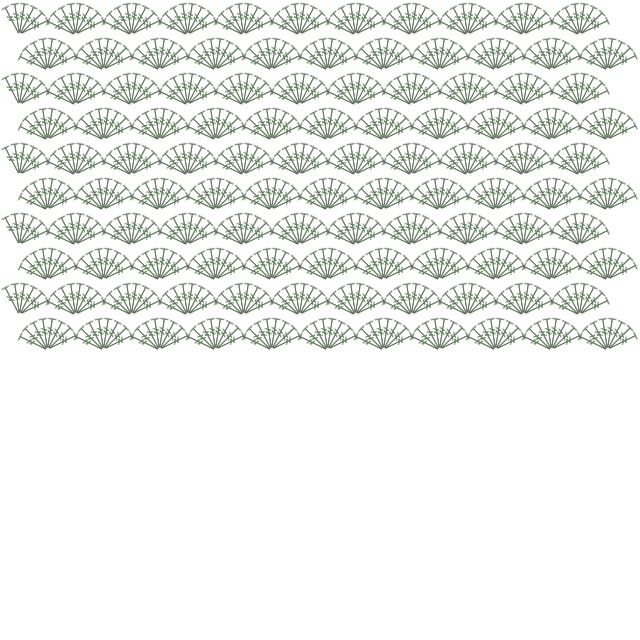fan: (16, 8, 47, 39), (49, 8, 80, 39), (72, 8, 103, 39), (105, 8, 136, 39), (128, 8, 159, 39), (161, 8, 192, 39), (184, 8, 215, 39), (217, 8, 248, 39), (240, 8, 271, 39), (273, 8, 304, 39), (296, 8, 327, 39), (329, 8, 360, 39), (352, 8, 383, 39), (385, 8, 416, 39), (408, 8, 439, 39), (441, 8, 472, 39), (464, 8, 495, 39), (497, 8, 528, 39), (520, 8, 551, 39), (553, 8, 584, 39), (576, 8, 607, 39), (21, 43, 52, 74), (44, 43, 75, 74), (77, 43, 108, 74), (100, 43, 131, 74), (133, 43, 164, 74), (156, 43, 187, 74), (189, 43, 220, 74), (212, 43, 243, 74), (245, 43, 276, 74), (268, 43, 299, 74), (301, 43, 332, 74), (324, 43, 355, 74), (357, 43, 388, 74), (380, 43, 411, 74), (413, 43, 444, 74), (436, 43, 467, 74), (469, 43, 500, 74), (492, 43, 523, 74), (525, 43, 556, 74), (548, 43, 579, 74), (581, 43, 612, 74), (604, 43, 635, 74), (16, 78, 47, 109), (49, 78, 80, 109), (72, 78, 103, 109), (105, 78, 136, 109), (128, 78, 159, 109), (161, 78, 192, 109), (184, 78, 215, 109), (217, 78, 248, 109), (240, 78, 271, 109), (273, 78, 304, 109), (296, 78, 327, 109), (329, 78, 360, 109), (352, 78, 383, 109), (385, 78, 416, 109), (408, 78, 439, 109), (441, 78, 472, 109), (464, 78, 495, 109), (497, 78, 528, 109), (520, 78, 551, 109), (553, 78, 584, 109), (576, 78, 607, 109), (21, 113, 52, 144), (44, 113, 75, 144), (77, 113, 108, 144), (100, 113, 131, 144), (133, 113, 164, 144), (156, 113, 187, 144), (189, 113, 220, 144), (212, 113, 243, 144), (245, 113, 276, 144), (268, 113, 299, 144), (301, 113, 332, 144), (324, 113, 355, 144), (357, 113, 388, 144), (380, 113, 411, 144), (413, 113, 444, 144), (436, 113, 467, 144), (469, 113, 500, 144), (492, 113, 523, 144), (525, 113, 556, 144), (548, 113, 579, 144), (581, 113, 612, 144), (604, 113, 635, 144), (16, 148, 47, 179), (49, 148, 80, 179), (72, 148, 103, 179), (105, 148, 136, 179), (128, 148, 159, 179), (161, 148, 192, 179), (184, 148, 215, 179), (217, 148, 248, 179), (240, 148, 271, 179), (273, 148, 304, 179), (296, 148, 327, 179), (329, 148, 360, 179), (352, 148, 383, 179), (385, 148, 416, 179), (408, 148, 439, 179), (441, 148, 472, 179), (464, 148, 495, 179), (497, 148, 528, 179), (520, 148, 551, 179), (553, 148, 584, 179), (576, 148, 607, 179), (21, 183, 52, 214), (44, 183, 75, 214), (77, 183, 108, 214), (100, 183, 131, 214), (133, 183, 164, 214), (156, 183, 187, 214), (189, 183, 220, 214), (212, 183, 243, 214), (245, 183, 276, 214), (268, 183, 299, 214), (301, 183, 332, 214), (324, 183, 355, 214), (357, 183, 388, 214), (380, 183, 411, 214), (413, 183, 444, 214), (436, 183, 467, 214), (469, 183, 500, 214), (492, 183, 523, 214), (525, 183, 556, 214), (548, 183, 579, 214), (581, 183, 612, 214), (604, 183, 635, 214), (16, 218, 47, 249), (49, 218, 80, 249), (72, 218, 103, 249), (105, 218, 136, 249), (128, 218, 159, 249), (161, 218, 192, 249), (184, 218, 215, 249), (217, 218, 248, 249), (240, 218, 271, 249), (273, 218, 304, 249), (296, 218, 327, 249), (329, 218, 360, 249), (352, 218, 383, 249), (385, 218, 416, 249), (408, 218, 439, 249), (441, 218, 472, 249), (464, 218, 495, 249), (497, 218, 528, 249), (520, 218, 551, 249), (553, 218, 584, 249), (576, 218, 607, 249), (21, 253, 52, 284), (44, 253, 75, 284), (77, 253, 108, 284), (100, 253, 131, 284), (133, 253, 164, 284), (156, 253, 187, 284), (189, 253, 220, 284), (212, 253, 243, 284), (245, 253, 276, 284), (268, 253, 299, 284), (301, 253, 332, 284), (324, 253, 355, 284), (357, 253, 388, 284), (380, 253, 411, 284), (413, 253, 444, 284), (436, 253, 467, 284), (469, 253, 500, 284), (492, 253, 523, 284), (525, 253, 556, 284), (548, 253, 579, 284), (581, 253, 612, 284), (604, 253, 635, 284), (16, 288, 47, 319), (49, 288, 80, 319), (72, 288, 103, 319), (105, 288, 136, 319), (128, 288, 159, 319), (161, 288, 192, 319), (184, 288, 215, 319), (217, 288, 248, 319), (240, 288, 271, 319), (273, 288, 304, 319), (296, 288, 327, 319), (329, 288, 360, 319), (352, 288, 383, 319), (385, 288, 416, 319), (408, 288, 439, 319), (441, 288, 472, 319), (464, 288, 495, 319), (497, 288, 528, 319), (520, 288, 551, 319), (553, 288, 584, 319), (576, 288, 607, 319), (21, 323, 52, 354), (44, 323, 75, 354), (77, 323, 108, 354), (100, 323, 131, 354), (133, 323, 164, 354), (156, 323, 187, 354), (189, 323, 220, 354), (212, 323, 243, 354), (245, 323, 276, 354), (268, 323, 299, 354), (301, 323, 332, 354), (324, 323, 355, 354), (357, 323, 388, 354), (380, 323, 411, 354), (413, 323, 444, 354), (436, 323, 467, 354), (469, 323, 500, 354), (492, 323, 523, 354), (525, 323, 556, 354), (548, 323, 579, 354), (581, 323, 612, 354), (604, 323, 635, 354), (0, 3, 25, 38), (15, 3, 40, 38), (56, 3, 81, 38), (71, 3, 96, 38), (112, 3, 137, 38), (127, 3, 152, 38), (168, 3, 193, 38), (183, 3, 208, 38), (224, 3, 249, 38), (239, 3, 264, 38), (280, 3, 305, 38), (295, 3, 320, 38), (336, 3, 361, 38), (351, 3, 376, 38), (392, 3, 417, 38), (407, 3, 432, 38), (448, 3, 473, 38), (463, 3, 488, 38), (504, 3, 529, 38), (519, 3, 544, 38), (560, 3, 585, 38), (575, 3, 600, 38), (28, 38, 53, 73), (43, 38, 68, 73), (84, 38, 109, 73), (99, 38, 124, 73), (140, 38, 165, 73), (155, 38, 180, 73), (196, 38, 221, 73), (211, 38, 236, 73), (252, 38, 277, 73), (267, 38, 292, 73), (308, 38, 333, 73), (323, 38, 348, 73), (364, 38, 389, 73), (379, 38, 404, 73), (420, 38, 445, 73), (435, 38, 460, 73), (476, 38, 501, 73), (491, 38, 516, 73), (532, 38, 557, 73), (547, 38, 572, 73), (588, 38, 613, 73), (603, 38, 628, 73), (0, 73, 25, 108), (15, 73, 40, 108), (56, 73, 81, 108), (71, 73, 96, 108), (112, 73, 137, 108), (127, 73, 152, 108), (168, 73, 193, 108), (183, 73, 208, 108), (224, 73, 249, 108), (239, 73, 264, 108), (280, 73, 305, 108), (295, 73, 320, 108), (336, 73, 361, 108), (351, 73, 376, 108), (392, 73, 417, 108), (407, 73, 432, 108), (448, 73, 473, 108), (463, 73, 488, 108), (504, 73, 529, 108), (519, 73, 544, 108), (560, 73, 585, 108), (575, 73, 600, 108), (28, 108, 53, 143), (43, 108, 68, 143), (84, 108, 109, 143), (99, 108, 124, 143), (140, 108, 165, 143), (155, 108, 180, 143), (196, 108, 221, 143), (211, 108, 236, 143), (252, 108, 277, 143), (267, 108, 292, 143), (308, 108, 333, 143), (323, 108, 348, 143), (364, 108, 389, 143), (379, 108, 404, 143), (420, 108, 445, 143), (435, 108, 460, 143), (476, 108, 501, 143), (491, 108, 516, 143), (532, 108, 557, 143), (547, 108, 572, 143), (588, 108, 613, 143), (603, 108, 628, 143), (0, 143, 25, 178), (15, 143, 40, 178), (56, 143, 81, 178), (71, 143, 96, 178), (112, 143, 137, 178), (127, 143, 152, 178), (168, 143, 193, 178), (183, 143, 208, 178), (224, 143, 249, 178), (239, 143, 264, 178), (280, 143, 305, 178), (295, 143, 320, 178), (336, 143, 361, 178), (351, 143, 376, 178), (392, 143, 417, 178), (407, 143, 432, 178), (448, 143, 473, 178), (463, 143, 488, 178), (504, 143, 529, 178), (519, 143, 544, 178), (560, 143, 585, 178), (575, 143, 600, 178), (28, 178, 53, 213), (43, 178, 68, 213), (84, 178, 109, 213), (99, 178, 124, 213), (140, 178, 165, 213), (155, 178, 180, 213), (196, 178, 221, 213), (211, 178, 236, 213), (252, 178, 277, 213), (267, 178, 292, 213), (308, 178, 333, 213), (323, 178, 348, 213), (364, 178, 389, 213), (379, 178, 404, 213), (420, 178, 445, 213), (435, 178, 460, 213), (476, 178, 501, 213), (491, 178, 516, 213), (532, 178, 557, 213), (547, 178, 572, 213), (588, 178, 613, 213), (603, 178, 628, 213), (0, 213, 25, 248), (15, 213, 40, 248), (56, 213, 81, 248), (71, 213, 96, 248), (112, 213, 137, 248), (127, 213, 152, 248), (168, 213, 193, 248), (183, 213, 208, 248), (224, 213, 249, 248), (239, 213, 264, 248), (280, 213, 305, 248), (295, 213, 320, 248), (336, 213, 361, 248), (351, 213, 376, 248), (392, 213, 417, 248), (407, 213, 432, 248), (448, 213, 473, 248), (463, 213, 488, 248), (504, 213, 529, 248), (519, 213, 544, 248), (560, 213, 585, 248), (575, 213, 600, 248), (28, 248, 53, 283), (43, 248, 68, 283), (84, 248, 109, 283), (99, 248, 124, 283), (140, 248, 165, 283), (155, 248, 180, 283), (196, 248, 221, 283), (211, 248, 236, 283), (252, 248, 277, 283), (267, 248, 292, 283), (308, 248, 333, 283), (323, 248, 348, 283), (364, 248, 389, 283), (379, 248, 404, 283), (420, 248, 445, 283), (435, 248, 460, 283), (476, 248, 501, 283), (491, 248, 516, 283), (532, 248, 557, 283), (547, 248, 572, 283), (588, 248, 613, 283), (603, 248, 628, 283), (0, 283, 25, 318), (15, 283, 40, 318), (56, 283, 81, 318), (71, 283, 96, 318), (112, 283, 137, 318), (127, 283, 152, 318), (168, 283, 193, 318), (183, 283, 208, 318), (224, 283, 249, 318), (239, 283, 264, 318), (280, 283, 305, 318), (295, 283, 320, 318), (336, 283, 361, 318), (351, 283, 376, 318), (392, 283, 417, 318), (407, 283, 432, 318), (448, 283, 473, 318), (463, 283, 488, 318), (504, 283, 529, 318), (519, 283, 544, 318), (560, 283, 585, 318), (575, 283, 600, 318), (28, 318, 53, 353), (43, 318, 68, 353), (84, 318, 109, 353), (99, 318, 124, 353), (140, 318, 165, 353), (155, 318, 180, 353), (196, 318, 221, 353), (211, 318, 236, 353), (252, 318, 277, 353), (267, 318, 292, 353), (308, 318, 333, 353), (323, 318, 348, 353), (364, 318, 389, 353), (379, 318, 404, 353), (420, 318, 445, 353), (435, 318, 460, 353), (476, 318, 501, 353), (491, 318, 516, 353), (532, 318, 557, 353), (547, 318, 572, 353), (588, 318, 613, 353), (603, 318, 628, 353), (18, 16, 52, 40), (44, 16, 78, 40), (74, 16, 108, 40), (100, 16, 134, 40), (130, 16, 164, 40), (156, 16, 190, 40), (186, 16, 220, 40), (212, 16, 246, 40), (242, 16, 276, 40), (268, 16, 302, 40), (298, 16, 332, 40), (324, 16, 358, 40), (354, 16, 388, 40), (380, 16, 414, 40), (410, 16, 444, 40), (436, 16, 470, 40), (466, 16, 500, 40), (492, 16, 526, 40), (522, 16, 556, 40), (548, 16, 582, 40), (578, 16, 612, 40), (16, 51, 50, 75), (46, 51, 80, 75), (72, 51, 106, 75), (102, 51, 136, 75), (128, 51, 162, 75), (158, 51, 192, 75), (184, 51, 218, 75), (214, 51, 248, 75), (240, 51, 274, 75), (270, 51, 304, 75), (296, 51, 330, 75), (326, 51, 360, 75), (352, 51, 386, 75), (382, 51, 416, 75), (408, 51, 442, 75), (438, 51, 472, 75), (464, 51, 498, 75), (494, 51, 528, 75), (520, 51, 554, 75), (550, 51, 584, 75), (576, 51, 610, 75), (606, 51, 640, 75), (18, 86, 52, 110), (44, 86, 78, 110), (74, 86, 108, 110), (100, 86, 134, 110), (130, 86, 164, 110), (156, 86, 190, 110), (186, 86, 220, 110), (212, 86, 246, 110), (242, 86, 276, 110), (268, 86, 302, 110), (298, 86, 332, 110), (324, 86, 358, 110), (354, 86, 388, 110), (380, 86, 414, 110), (410, 86, 444, 110), (436, 86, 470, 110), (466, 86, 500, 110), (492, 86, 526, 110), (522, 86, 556, 110), (548, 86, 582, 110), (578, 86, 612, 110), (16, 121, 50, 145), (46, 121, 80, 145), (72, 121, 106, 145), (102, 121, 136, 145), (128, 121, 162, 145), (158, 121, 192, 145), (184, 121, 218, 145), (214, 121, 248, 145), (240, 121, 274, 145), (270, 121, 304, 145), (296, 121, 330, 145), (326, 121, 360, 145), (352, 121, 386, 145), (382, 121, 416, 145), (408, 121, 442, 145), (438, 121, 472, 145), (464, 121, 498, 145), (494, 121, 528, 145), (520, 121, 554, 145), (550, 121, 584, 145), (576, 121, 610, 145), (606, 121, 640, 145), (18, 156, 52, 180), (44, 156, 78, 180), (74, 156, 108, 180), (100, 156, 134, 180), (130, 156, 164, 180), (156, 156, 190, 180), (186, 156, 220, 180), (212, 156, 246, 180), (242, 156, 276, 180), (268, 156, 302, 180), (298, 156, 332, 180), (324, 156, 358, 180), (354, 156, 388, 180), (380, 156, 414, 180), (410, 156, 444, 180), (436, 156, 470, 180), (466, 156, 500, 180), (492, 156, 526, 180), (522, 156, 556, 180), (548, 156, 582, 180), (578, 156, 612, 180), (16, 191, 50, 215), (46, 191, 80, 215), (72, 191, 106, 215), (102, 191, 136, 215), (128, 191, 162, 215), (158, 191, 192, 215), (184, 191, 218, 215), (214, 191, 248, 215), (240, 191, 274, 215), (270, 191, 304, 215), (296, 191, 330, 215), (326, 191, 360, 215), (352, 191, 386, 215), (382, 191, 416, 215), (408, 191, 442, 215), (438, 191, 472, 215), (464, 191, 498, 215), (494, 191, 528, 215), (520, 191, 554, 215), (550, 191, 584, 215), (576, 191, 610, 215), (606, 191, 640, 215), (18, 226, 52, 250), (44, 226, 78, 250), (74, 226, 108, 250), (100, 226, 134, 250), (130, 226, 164, 250), (156, 226, 190, 250), (186, 226, 220, 250), (212, 226, 246, 250), (242, 226, 276, 250), (268, 226, 302, 250), (298, 226, 332, 250), (324, 226, 358, 250), (354, 226, 388, 250), (380, 226, 414, 250), (410, 226, 444, 250), (436, 226, 470, 250), (466, 226, 500, 250), (492, 226, 526, 250), (522, 226, 556, 250), (548, 226, 582, 250), (578, 226, 612, 250), (16, 261, 50, 285), (46, 261, 80, 285), (72, 261, 106, 285), (102, 261, 136, 285), (128, 261, 162, 285), (158, 261, 192, 285), (184, 261, 218, 285), (214, 261, 248, 285), (240, 261, 274, 285), (270, 261, 304, 285), (296, 261, 330, 285), (326, 261, 360, 285), (352, 261, 386, 285), (382, 261, 416, 285), (408, 261, 442, 285), (438, 261, 472, 285), (464, 261, 498, 285), (494, 261, 528, 285), (520, 261, 554, 285), (550, 261, 584, 285), (576, 261, 610, 285), (606, 261, 640, 285), (18, 296, 52, 320), (44, 296, 78, 320), (74, 296, 108, 320), (100, 296, 134, 320), (130, 296, 164, 320), (156, 296, 190, 320), (186, 296, 220, 320), (212, 296, 246, 320), (242, 296, 276, 320), (268, 296, 302, 320), (298, 296, 332, 320), (324, 296, 358, 320), (354, 296, 388, 320), (380, 296, 414, 320), (410, 296, 444, 320), (436, 296, 470, 320), (466, 296, 500, 320), (492, 296, 526, 320), (522, 296, 556, 320), (548, 296, 582, 320), (578, 296, 612, 320), (16, 331, 50, 355), (46, 331, 80, 355), (72, 331, 106, 355), (102, 331, 136, 355), (128, 331, 162, 355), (158, 331, 192, 355), (184, 331, 218, 355), (214, 331, 248, 355), (240, 331, 274, 355), (270, 331, 304, 355), (296, 331, 330, 355), (326, 331, 360, 355), (352, 331, 386, 355), (382, 331, 416, 355), (408, 331, 442, 355), (438, 331, 472, 355), (464, 331, 498, 355), (494, 331, 528, 355), (520, 331, 554, 355), (550, 331, 584, 355), (576, 331, 610, 355), (606, 331, 640, 355), (9, 2, 25, 36), (15, 2, 31, 36), (65, 2, 81, 36), (71, 2, 87, 36), (121, 2, 137, 36), (127, 2, 143, 36), (177, 2, 193, 36), (183, 2, 199, 36), (233, 2, 249, 36), (239, 2, 255, 36), (289, 2, 305, 36), (295, 2, 311, 36), (345, 2, 361, 36), (351, 2, 367, 36), (401, 2, 417, 36), (407, 2, 423, 36), (457, 2, 473, 36), (463, 2, 479, 36), (513, 2, 529, 36), (519, 2, 535, 36), (569, 2, 585, 36), (575, 2, 591, 36), (37, 37, 53, 71), (43, 37, 59, 71), (93, 37, 109, 71), (99, 37, 115, 71), (149, 37, 165, 71), (155, 37, 171, 71), (205, 37, 221, 71), (211, 37, 227, 71), (261, 37, 277, 71), (267, 37, 283, 71), (317, 37, 333, 71), (323, 37, 339, 71), (373, 37, 389, 71), (379, 37, 395, 71), (429, 37, 445, 71), (435, 37, 451, 71), (485, 37, 501, 71), (491, 37, 507, 71), (541, 37, 557, 71), (547, 37, 563, 71), (597, 37, 613, 71), (603, 37, 619, 71), (9, 72, 25, 106), (15, 72, 31, 106), (65, 72, 81, 106), (71, 72, 87, 106), (121, 72, 137, 106), (127, 72, 143, 106), (177, 72, 193, 106), (183, 72, 199, 106), (233, 72, 249, 106), (239, 72, 255, 106), (289, 72, 305, 106), (295, 72, 311, 106), (345, 72, 361, 106), (351, 72, 367, 106), (401, 72, 417, 106), (407, 72, 423, 106), (457, 72, 473, 106), (463, 72, 479, 106), (513, 72, 529, 106), (519, 72, 535, 106), (569, 72, 585, 106), (575, 72, 591, 106), (37, 107, 53, 141), (43, 107, 59, 141), (93, 107, 109, 141), (99, 107, 115, 141), (149, 107, 165, 141), (155, 107, 171, 141), (205, 107, 221, 141), (211, 107, 227, 141), (261, 107, 277, 141), (267, 107, 283, 141), (317, 107, 333, 141), (323, 107, 339, 141), (373, 107, 389, 141), (379, 107, 395, 141), (429, 107, 445, 141), (435, 107, 451, 141), (485, 107, 501, 141), (491, 107, 507, 141), (541, 107, 557, 141), (547, 107, 563, 141), (597, 107, 613, 141), (603, 107, 619, 141), (9, 142, 25, 176), (15, 142, 31, 176), (65, 142, 81, 176), (71, 142, 87, 176), (121, 142, 137, 176), (127, 142, 143, 176), (177, 142, 193, 176), (183, 142, 199, 176), (233, 142, 249, 176), (239, 142, 255, 176), (289, 142, 305, 176), (295, 142, 311, 176), (345, 142, 361, 176), (351, 142, 367, 176), (401, 142, 417, 176), (407, 142, 423, 176), (457, 142, 473, 176), (463, 142, 479, 176), (513, 142, 529, 176), (519, 142, 535, 176), (569, 142, 585, 176), (575, 142, 591, 176), (37, 177, 53, 211), (43, 177, 59, 211), (93, 177, 109, 211), (99, 177, 115, 211), (149, 177, 165, 211), (155, 177, 171, 211), (205, 177, 221, 211), (211, 177, 227, 211), (261, 177, 277, 211), (267, 177, 283, 211), (317, 177, 333, 211), (323, 177, 339, 211), (373, 177, 389, 211), (379, 177, 395, 211), (429, 177, 445, 211), (435, 177, 451, 211), (485, 177, 501, 211), (491, 177, 507, 211), (541, 177, 557, 211), (547, 177, 563, 211), (597, 177, 613, 211), (603, 177, 619, 211), (9, 212, 25, 246), (15, 212, 31, 246), (65, 212, 81, 246), (71, 212, 87, 246), (121, 212, 137, 246), (127, 212, 143, 246), (177, 212, 193, 246), (183, 212, 199, 246), (233, 212, 249, 246), (239, 212, 255, 246), (289, 212, 305, 246), (295, 212, 311, 246), (345, 212, 361, 246), (351, 212, 367, 246), (401, 212, 417, 246), (407, 212, 423, 246), (457, 212, 473, 246), (463, 212, 479, 246), (513, 212, 529, 246), (519, 212, 535, 246), (569, 212, 585, 246), (575, 212, 591, 246), (37, 247, 53, 281), (43, 247, 59, 281), (93, 247, 109, 281), (99, 247, 115, 281), (149, 247, 165, 281), (155, 247, 171, 281), (205, 247, 221, 281), (211, 247, 227, 281), (261, 247, 277, 281), (267, 247, 283, 281), (317, 247, 333, 281), (323, 247, 339, 281), (373, 247, 389, 281), (379, 247, 395, 281), (429, 247, 445, 281), (435, 247, 451, 281), (485, 247, 501, 281), (491, 247, 507, 281), (541, 247, 557, 281), (547, 247, 563, 281), (597, 247, 613, 281), (603, 247, 619, 281), (9, 282, 25, 316), (15, 282, 31, 316), (65, 282, 81, 316), (71, 282, 87, 316), (121, 282, 137, 316), (127, 282, 143, 316), (177, 282, 193, 316), (183, 282, 199, 316), (233, 282, 249, 316), (239, 282, 255, 316), (289, 282, 305, 316), (295, 282, 311, 316), (345, 282, 361, 316), (351, 282, 367, 316), (401, 282, 417, 316), (407, 282, 423, 316), (457, 282, 473, 316), (463, 282, 479, 316), (513, 282, 529, 316), (519, 282, 535, 316), (569, 282, 585, 316), (575, 282, 591, 316), (37, 317, 53, 351), (43, 317, 59, 351), (93, 317, 109, 351), (99, 317, 115, 351), (149, 317, 165, 351), (155, 317, 171, 351), (205, 317, 221, 351), (211, 317, 227, 351), (261, 317, 277, 351), (267, 317, 283, 351), (317, 317, 333, 351), (323, 317, 339, 351), (373, 317, 389, 351), (379, 317, 395, 351), (429, 317, 445, 351), (435, 317, 451, 351), (485, 317, 501, 351), (491, 317, 507, 351), (541, 317, 557, 351), (547, 317, 563, 351), (597, 317, 613, 351), (603, 317, 619, 351)
